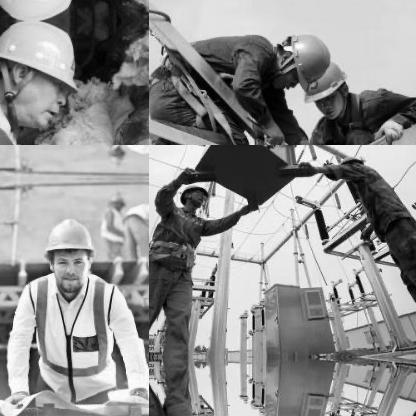Helmet: (0, 20, 89, 136), (36, 207, 98, 290), (268, 30, 328, 84), (301, 57, 345, 119), (0, 0, 91, 19), (175, 178, 209, 212), (336, 153, 364, 181), (107, 145, 126, 164), (107, 191, 125, 211)
